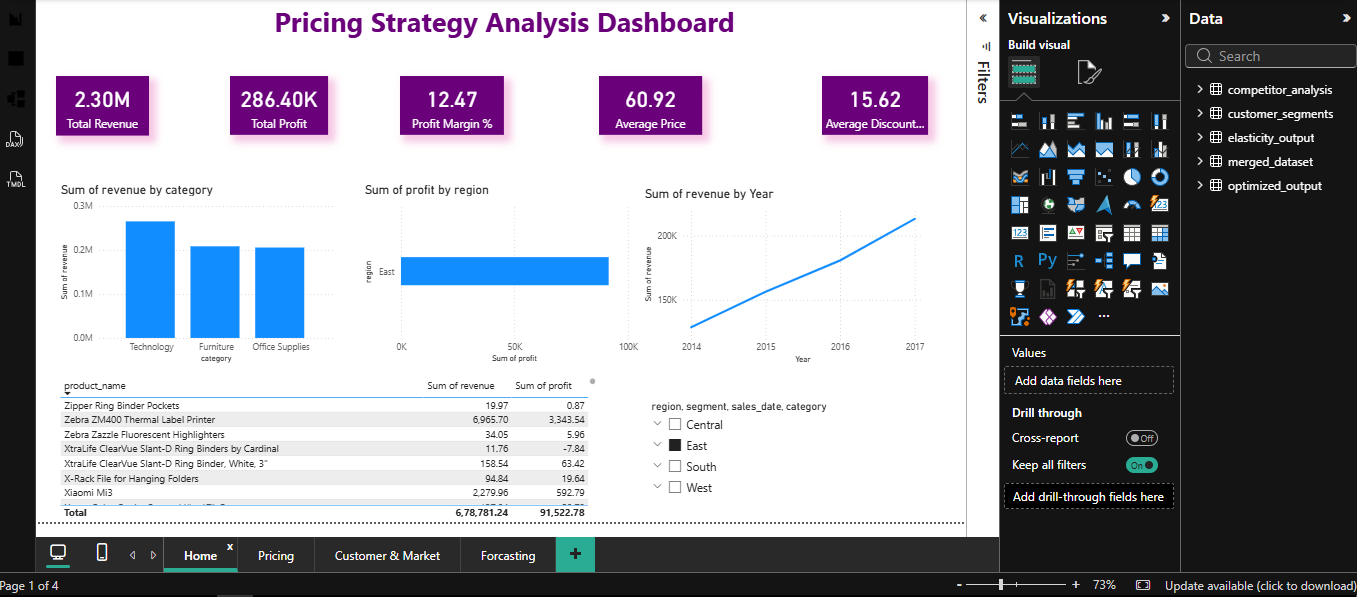

The dashboard page shown, as its layout file describes it:
{"tool":"powerbi","page":{"name":"Home","canvas":[1280,720],"ordinal":0},"visuals":[{"type":"textbox","box":[9.6,0,1270.4,106],"z":0},{"type":"card","fields":{"Values":["competitor_analysis.Total Revenue"]},"box":[28.2,105.3,127.6,81.6],"z":1000},{"type":"card","fields":{"Values":["competitor_analysis.Total Profit"]},"box":[267,106,134.9,81.2],"z":2000},{"type":"card","fields":{"Values":["competitor_analysis.Profit Margin %"]},"box":[501,106,143.1,81.2],"z":3000},{"type":"card","fields":{"Values":["competitor_analysis.Average Price"]},"box":[774.9,106,141.8,81.2],"z":4000},{"type":"card","fields":{"Values":["competitor_analysis.Average Discount %"]},"box":[1081.8,106,145.9,81.2],"z":5000},{"type":"clusteredColumnChart","fields":{"Y":["Sum(elasticity_output.revenue)"],"Category":["elasticity_output.category"]},"box":[28.6,252,384.7,253.6],"z":6000},{"type":"clusteredBarChart","fields":{"Category":["elasticity_output.region"],"Y":["Sum(elasticity_output.profit)"]},"box":[446.8,252,386.4,253.6],"z":7000},{"type":"lineChart","fields":{"Category":["elasticity_output.sales_date.Variation.Date Hierarchy.Year","elasticity_output.sales_date.Variation.Date Hierarchy.Quarter","elasticity_output.sales_date.Variation.Date Hierarchy.Month","elasticity_output.sales_date.Variation.Date Hierarchy.Day"],"Y":["Sum(elasticity_output.revenue)"]},"box":[833.2,257,394.8,248.6],"z":8000},{"type":"tableEx","fields":{"Values":["elasticity_output.product_name","Sum(elasticity_output.revenue)","Sum(elasticity_output.profit)"]},"box":[28.2,516.2,747.5,204.7],"z":9000},{"type":"slicer","fields":{"Values":["elasticity_output.region","elasticity_output.segment","elasticity_output.sales_date","competitor_analysis.category"]},"box":[833.6,547.3,299.6,172.1],"z":10000}]}

Visuals, with their boxes on the page's 1280x720 design canvas (x1, y1, x2, y2). These are canvas units, not pixel positions in the 1357x597 screenshot, which may show the page scaled, cropped or inside an application window:
textbox: [10,0,1280,106]
card - competitor_analysis.Total Revenue: [28,105,156,187]
card - competitor_analysis.Total Profit: [267,106,402,187]
card - competitor_analysis.Profit Margin %: [501,106,644,187]
card - competitor_analysis.Average Price: [775,106,917,187]
card - competitor_analysis.Average Discount %: [1082,106,1228,187]
clusteredColumnChart - Sum(elasticity_output.revenue) x elasticity_output.category: [29,252,413,506]
clusteredBarChart - elasticity_output.region x Sum(elasticity_output.profit): [447,252,833,506]
lineChart - elasticity_output.sales_date.Variation.Date Hierarchy.Year x elasticity_output.sales_date.Variation.Date Hierarchy.Quarter: [833,257,1228,506]
tableEx - elasticity_output.product_name x Sum(elasticity_output.revenue): [28,516,776,721]
slicer - elasticity_output.region x elasticity_output.segment: [834,547,1133,719]
